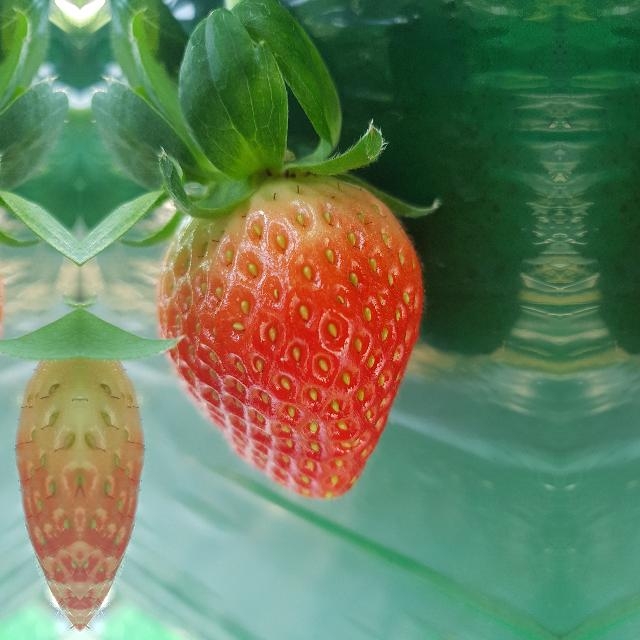Health_100: (154, 175, 423, 500)
Health_75: (80, 343, 142, 633), (18, 343, 80, 633)
